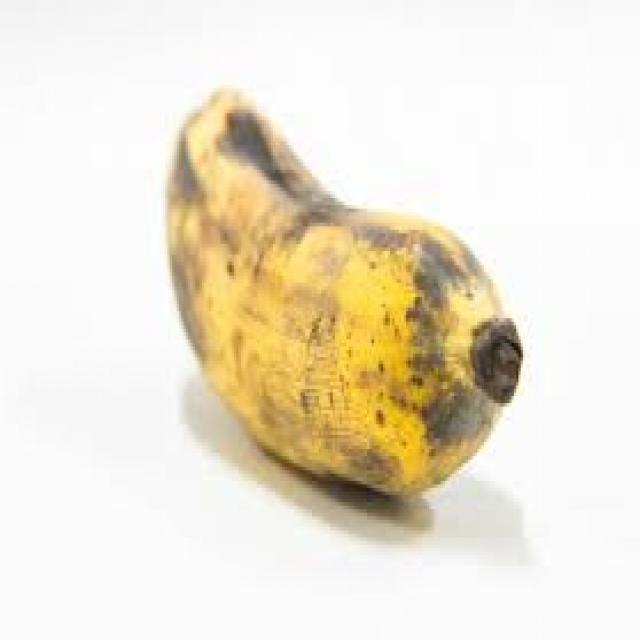organic waste: (163, 85, 521, 498)
